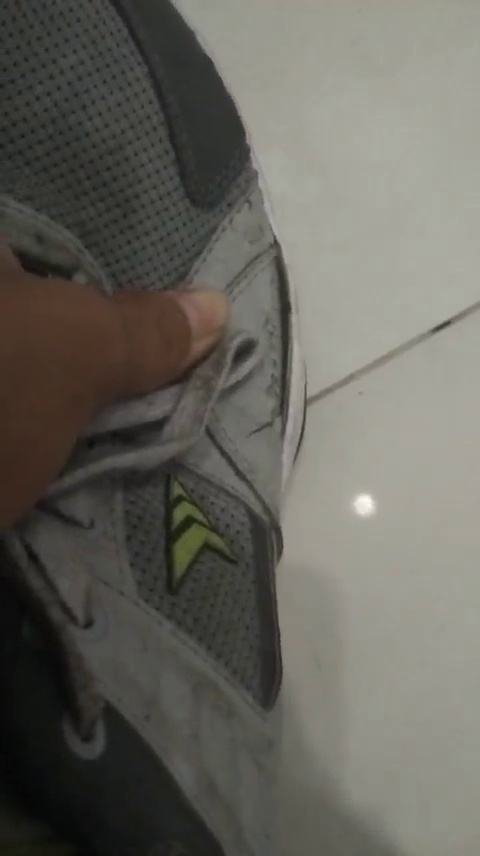bonding: (264, 236, 303, 437)
